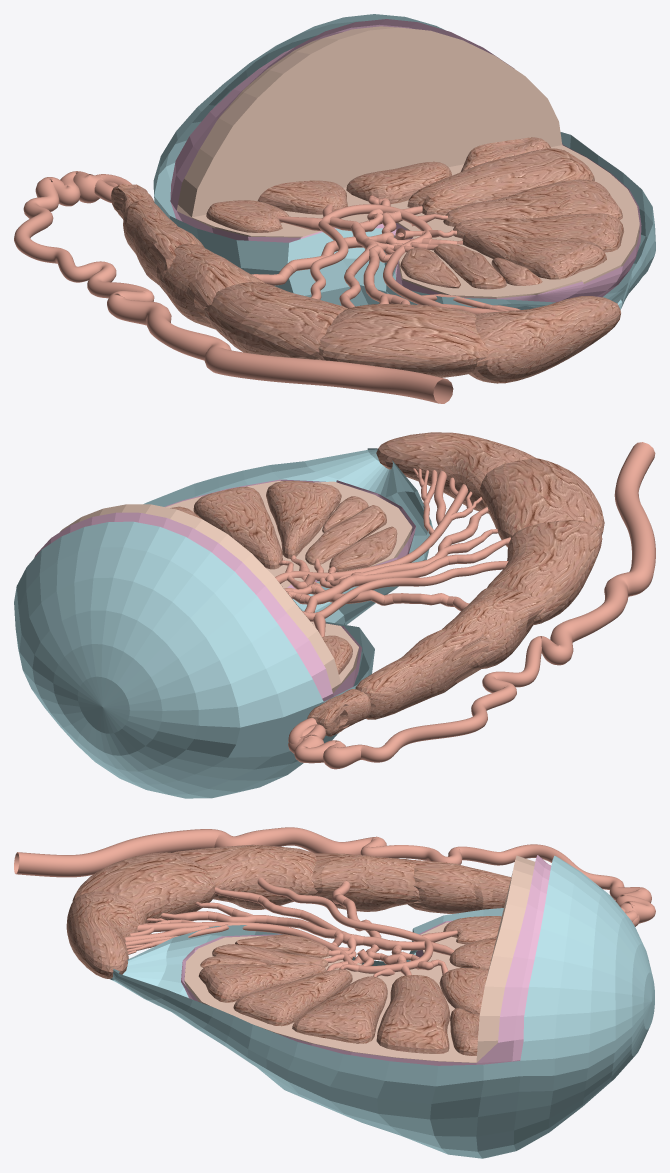
File: TesticuloVA.glb
3 renders of one model, top to bottom at view 1: azimuth 30°, elevation 25°; view 2: azimuth 150°, elevation 25°; view 3: azimuth 270°, elevation 25°, orthographic. The views are drawn at different scales.
Parts seen in each view (by area): view 1: Crema, NurbsPath, Azul, Sphere.015, Sphere, Sphere.016, Rosa, Sphere.003, Sphere.001, Sphere.017, Sphere.004, Sphere.002 (+13 smaller); view 2: Azul, NurbsPath, Crema, Sphere.016, Sphere.015, Sphere.018, Rosa, Sphere, Sphere.017, Sphere.002, Sphere.004, NurbsPath.001 (+8 smaller); view 3: Azul, NurbsPath, Crema, Rosa, Sphere.015, Sphere.016, Sphere, Sphere.017, Sphere.003, Sphere.018, Sphere.001, NurbsPath.001 (+12 smaller).
Part boxes in pixels (bbox=[...]): Crema: bbox=[177, 26, 639, 298]; NurbsPath: bbox=[14, 171, 453, 403]; Azul: bbox=[153, 14, 655, 309]; Sphere.015: bbox=[318, 304, 488, 377]; Sphere: bbox=[469, 296, 620, 383]; Sphere.016: bbox=[204, 282, 347, 359]; Rosa: bbox=[170, 19, 641, 302]; Sphere.003: bbox=[407, 148, 594, 215]; Sphere.001: bbox=[443, 179, 622, 226]; Sphere.017: bbox=[155, 243, 264, 329]; Sphere.004: bbox=[462, 230, 606, 279]; Sphere.002: bbox=[453, 213, 623, 252]; Azul: bbox=[14, 448, 432, 798]; NurbsPath: bbox=[288, 442, 655, 769]; Crema: bbox=[60, 481, 412, 692]; Sphere.016: bbox=[487, 520, 602, 625]; Sphere.015: bbox=[480, 458, 604, 547]; Sphere.018: bbox=[355, 629, 489, 719]; Rosa: bbox=[34, 479, 415, 701]; Sphere: bbox=[376, 432, 536, 513]; Sphere.017: bbox=[442, 586, 546, 668]; Sphere.002: bbox=[193, 486, 282, 569]; Sphere.004: bbox=[266, 481, 341, 558]; NurbsPath.001: bbox=[275, 484, 508, 621]; Azul: bbox=[110, 855, 654, 1158]; NurbsPath: bbox=[14, 827, 655, 926]; Crema: bbox=[184, 855, 535, 1062]; Rosa: bbox=[181, 855, 551, 1065]; Sphere.015: bbox=[72, 852, 215, 923]; Sphere.016: bbox=[172, 844, 317, 909]; Sphere: bbox=[66, 891, 146, 978]; Sphere.017: bbox=[311, 853, 419, 911]; Sphere.003: bbox=[376, 975, 449, 1053]; Sphere.018: bbox=[401, 859, 511, 913]; Sphere.001: bbox=[292, 976, 387, 1043]; NurbsPath.001: bbox=[137, 877, 433, 973].
Bounding box in the file's own units: 3.78 × 2.14 × 4.62.
40 materials, 17 textured.
